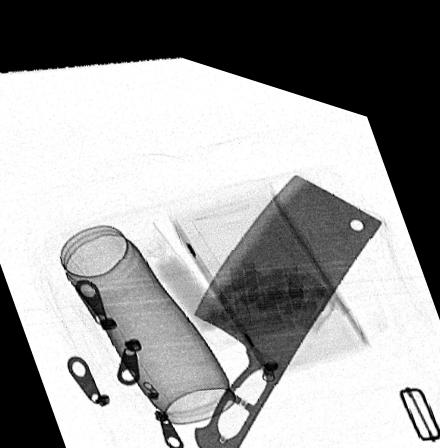Knife: (192, 155, 381, 447)
